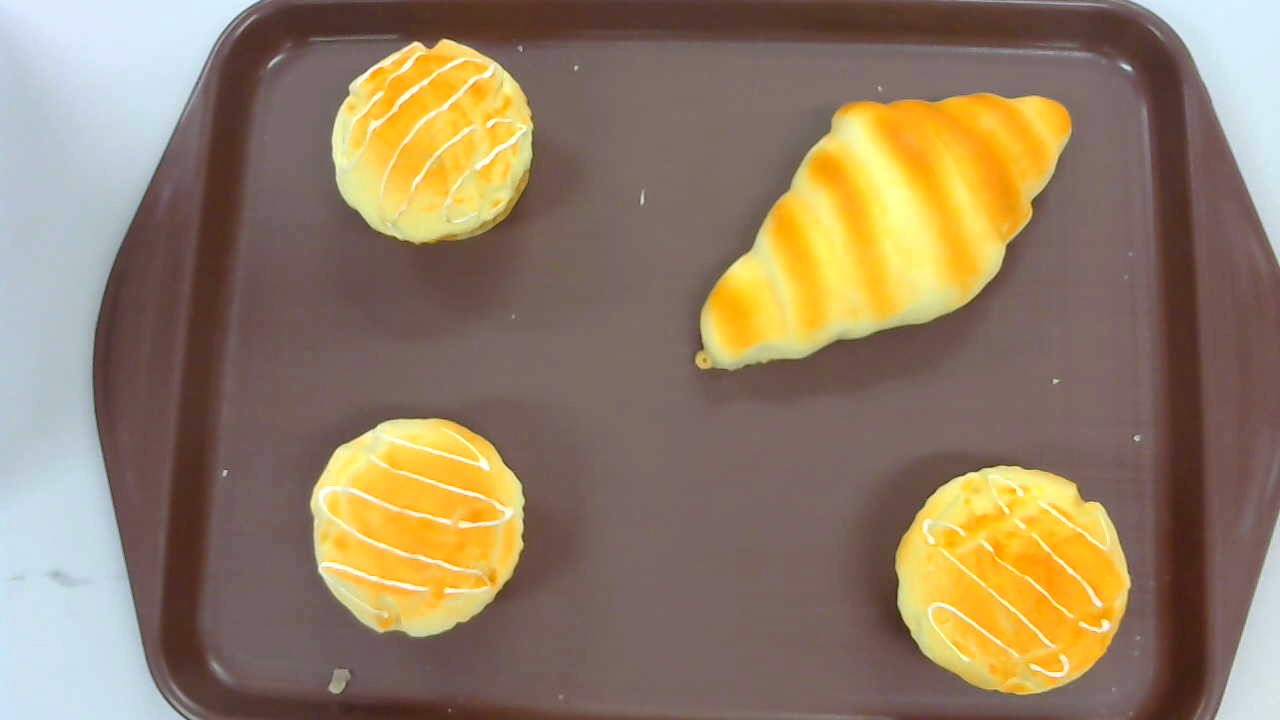croissant: (694, 91, 1074, 373)
cupcake: (893, 465, 1131, 697), (310, 416, 526, 637), (332, 37, 535, 247)
